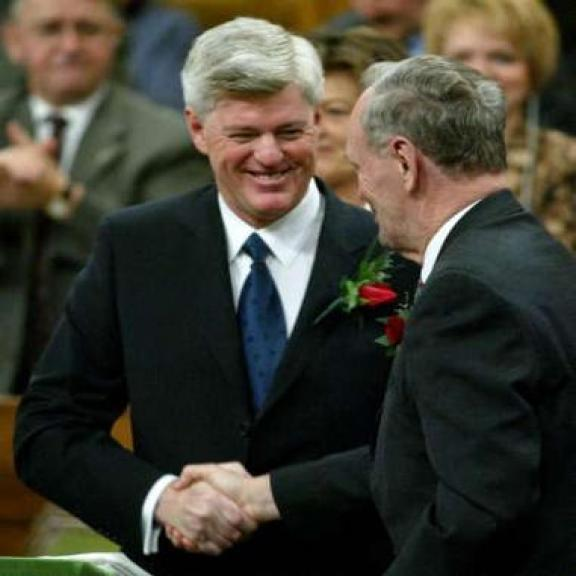face: (175, 85, 321, 219), (340, 96, 422, 257), (11, 1, 124, 99)
